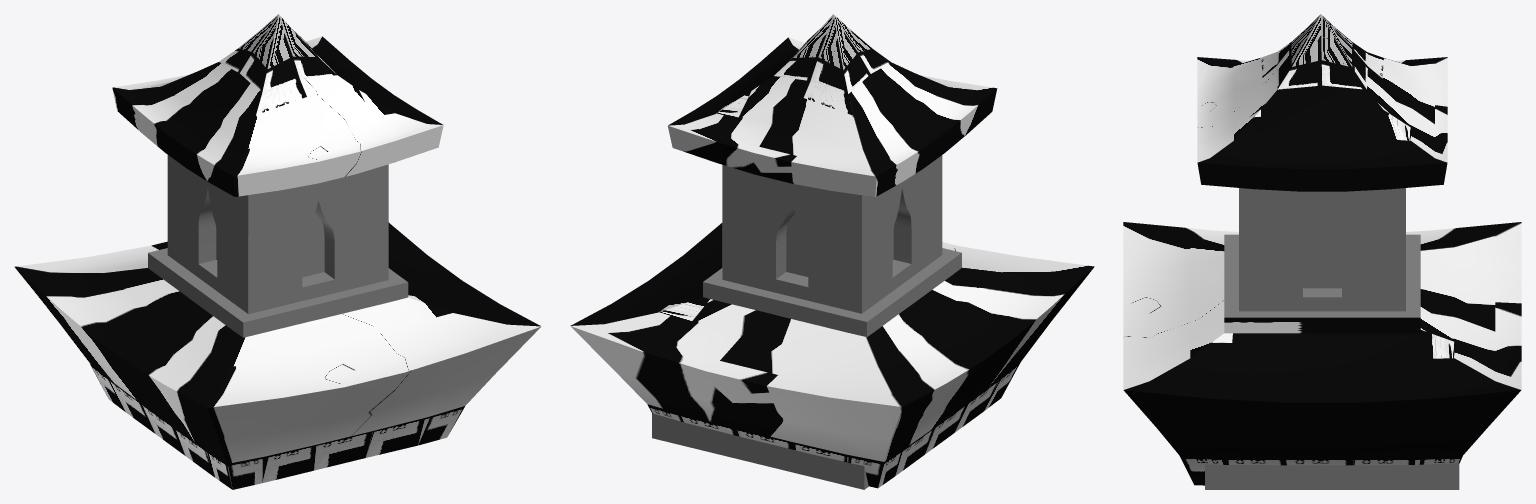
Rendered from roof offset.fbx.
The picture shows the model from 3 angles, left to right: view 1: azimuth 30°, elevation 25°; view 2: azimuth 150°, elevation 25°; view 3: azimuth 270°, elevation 25°; orthographic projection. The views are drawn at different scales.
Parts seen in each view (by area): view 1: ROOF (1); view 2: ROOF (1); view 3: ROOF (1).
Part boxes in pixels (left/top/right/bottom): ROOF (1): left=14, top=14, right=541, bottom=489; ROOF (1): left=570, top=14, right=1094, bottom=489; ROOF (1): left=1123, top=14, right=1521, bottom=489.
Bounding box in the file's own units: 2.92 × 3.38 × 2.92.
